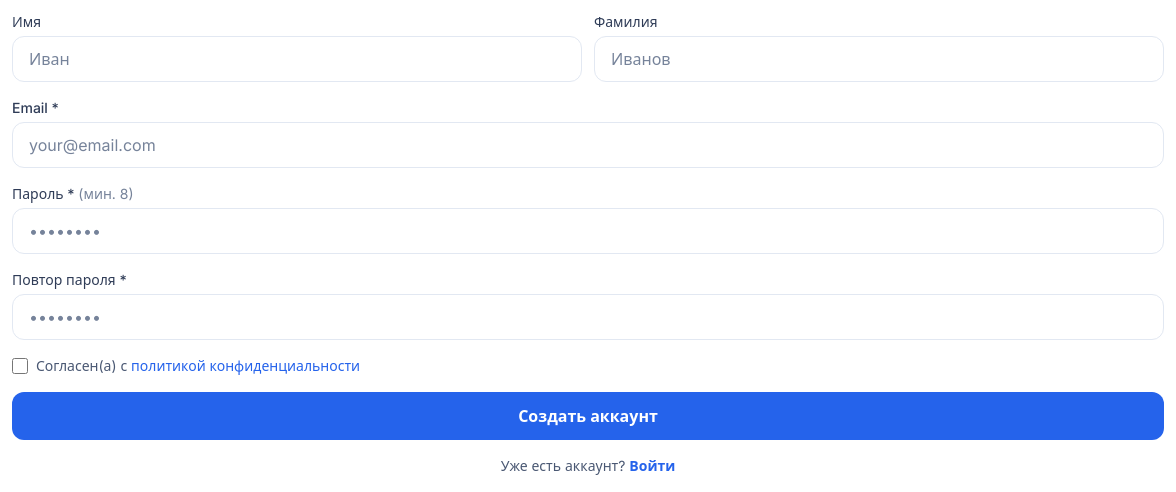
Test: HomePage RegisterModal › 202 → «Проверьте почту», NOT «Регистрация успешна», no navigation, no /me, no tokens
Type "  new.user@example.test " into the field with placeholder "your@email.com" at [588, 145], box [12,122,1164,168]
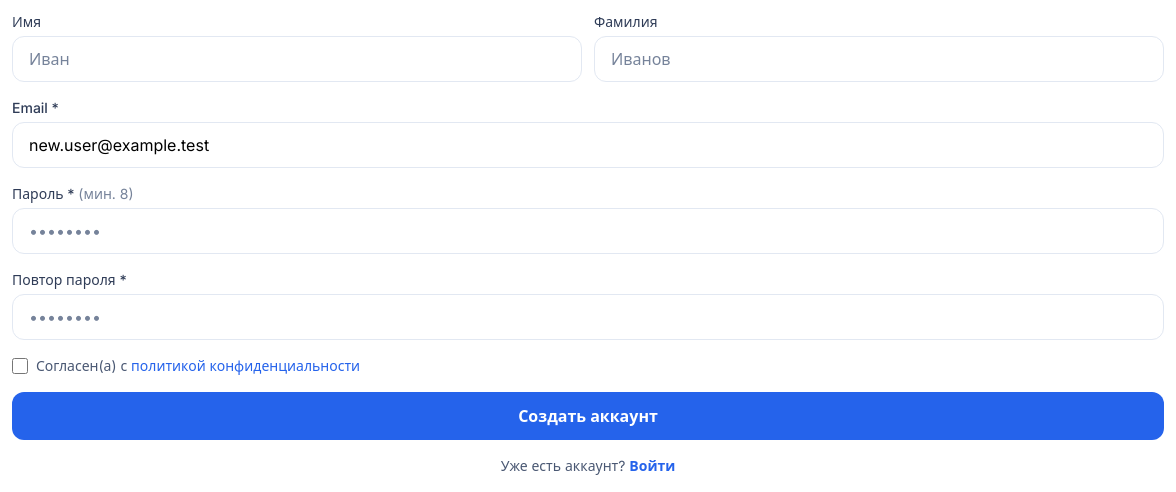
Type "Passw0rd-123" into the password field with placeholder "••••••••" below "Пароль *" at [588, 231], box [12,208,1164,254]
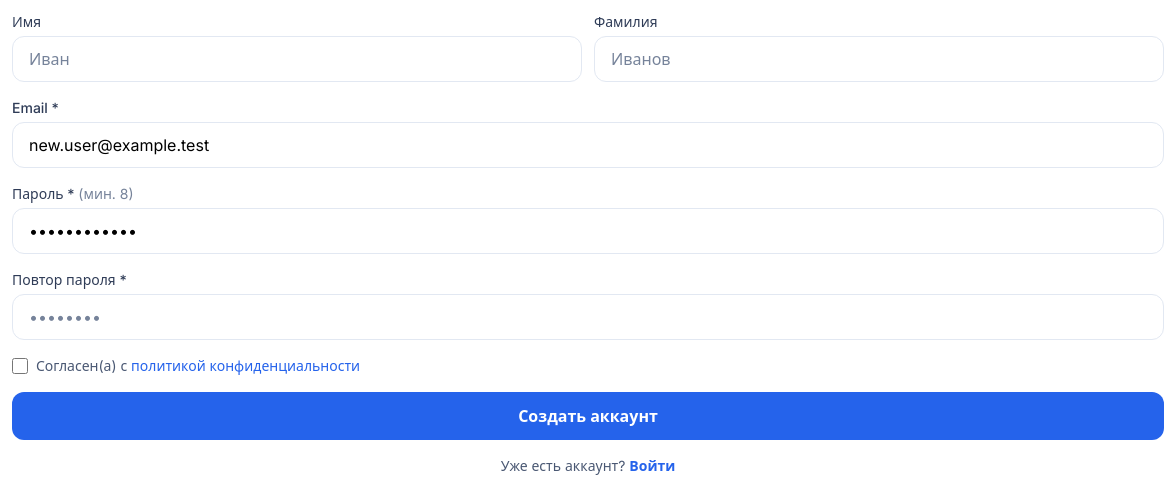
Type "Passw0rd-123" into the password field with placeholder "••••••••" at [588, 317], box [12,294,1164,340]
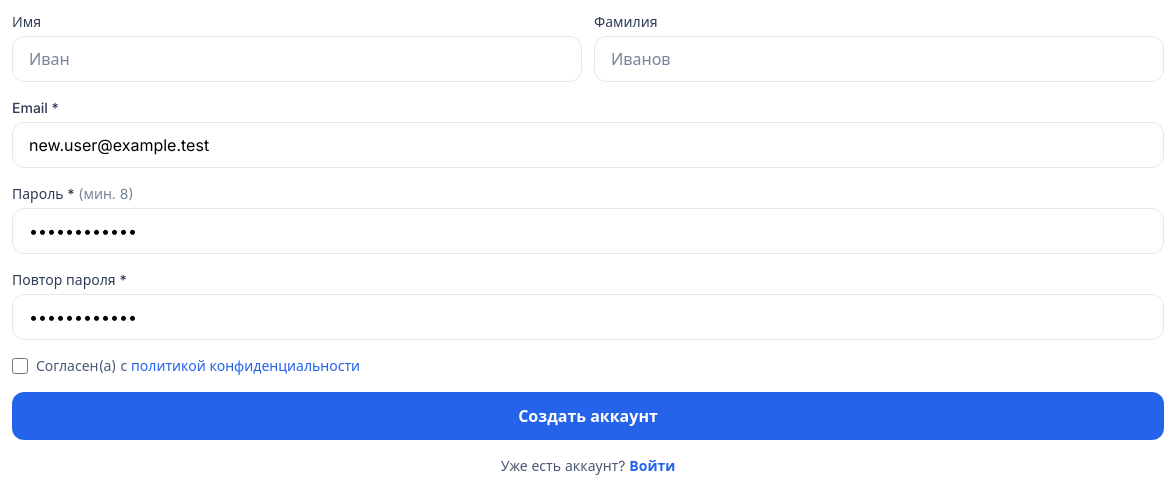
Click the checkbox at [20, 366], box [12,358,28,374]
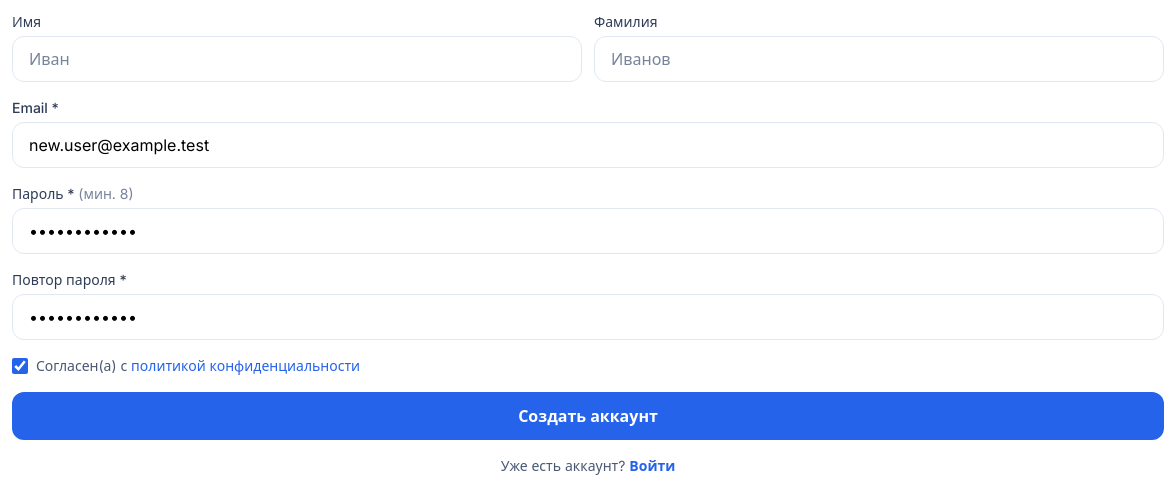
Click the button "Создать аккаунт" at [588, 416], box [12,392,1164,440]
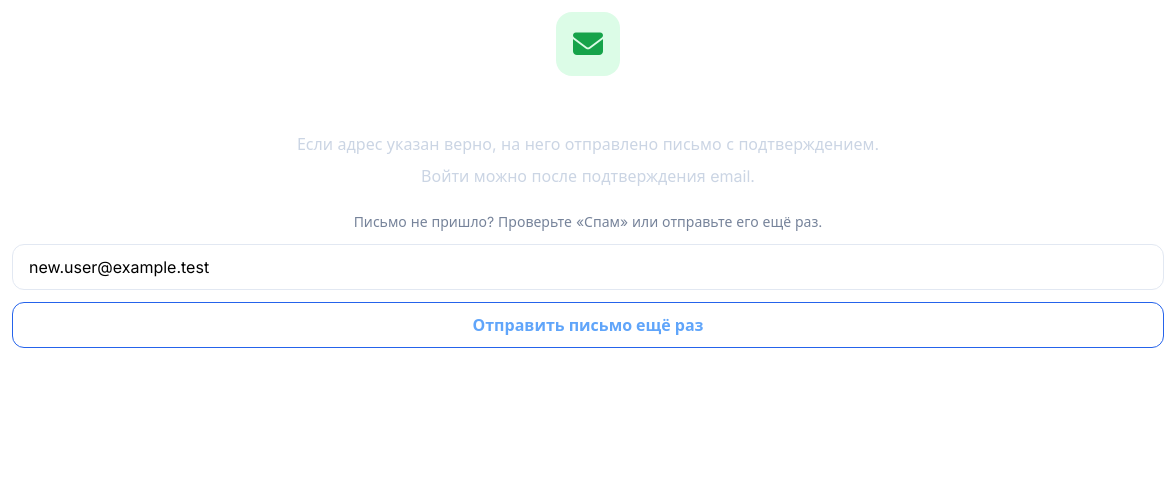
expect the text "Если адрес указан верно, на него отправлено письмо с подтверждением." is shown: met, box [297,134,879,154]
expect the field with placeholder "your@email.com" holds "new.user@example.test": met, box [12,244,1164,290]
